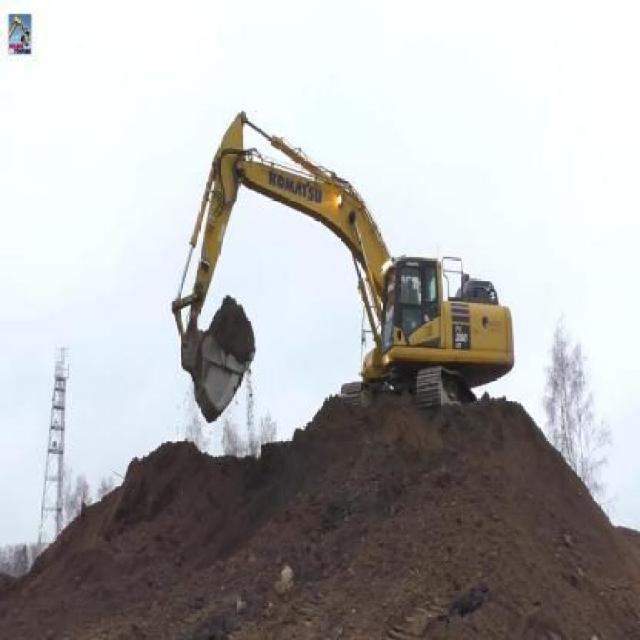Excavator: (170, 110, 515, 424)
